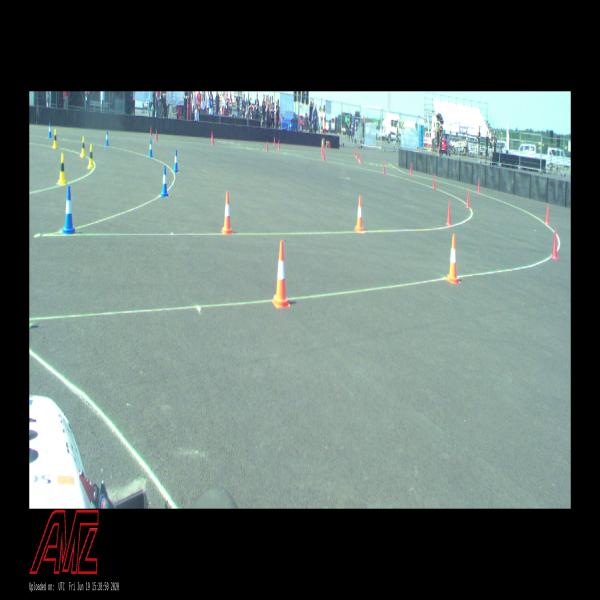blue_cone: (62, 186, 76, 233), (160, 166, 168, 197), (173, 150, 179, 172), (148, 139, 153, 157), (48, 122, 52, 138), (105, 131, 109, 146)
orange_cone: (272, 241, 290, 308), (446, 234, 460, 284), (222, 192, 232, 234), (355, 196, 364, 231)
yellow_cone: (57, 153, 66, 185), (88, 144, 94, 169), (80, 136, 86, 157), (52, 129, 57, 148)
